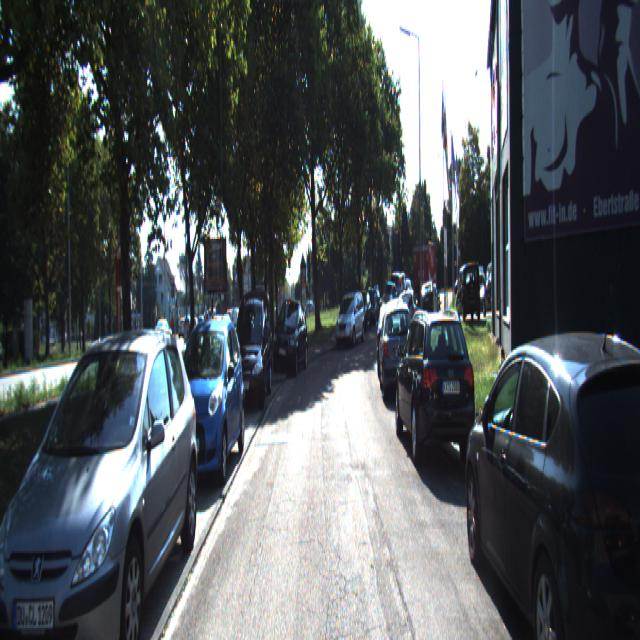Car: (0, 308, 200, 639), (456, 323, 640, 638), (393, 306, 482, 484), (166, 315, 247, 494), (226, 292, 274, 415), (377, 298, 416, 407), (273, 298, 308, 380), (334, 297, 366, 352), (414, 239, 437, 304)
